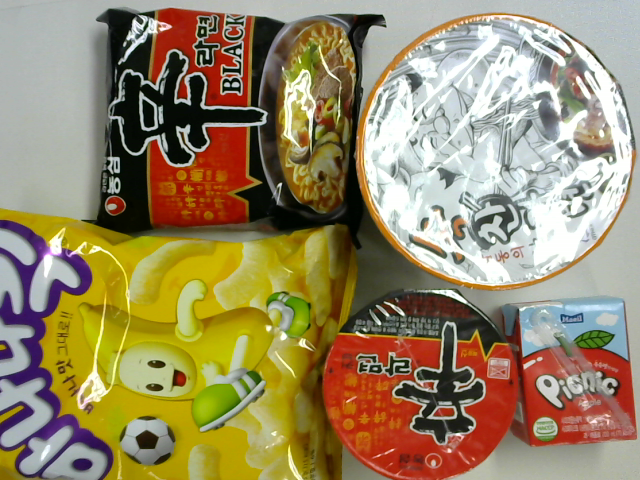Banana_Kick: (1, 210, 348, 480)
HeJangsock: (355, 14, 639, 288)
Hejangchan: (357, 14, 633, 290)
Picnic_Apple: (505, 298, 639, 448)
Sinramen_Black: (89, 6, 377, 234)
Sinramen_small: (321, 286, 513, 480)
